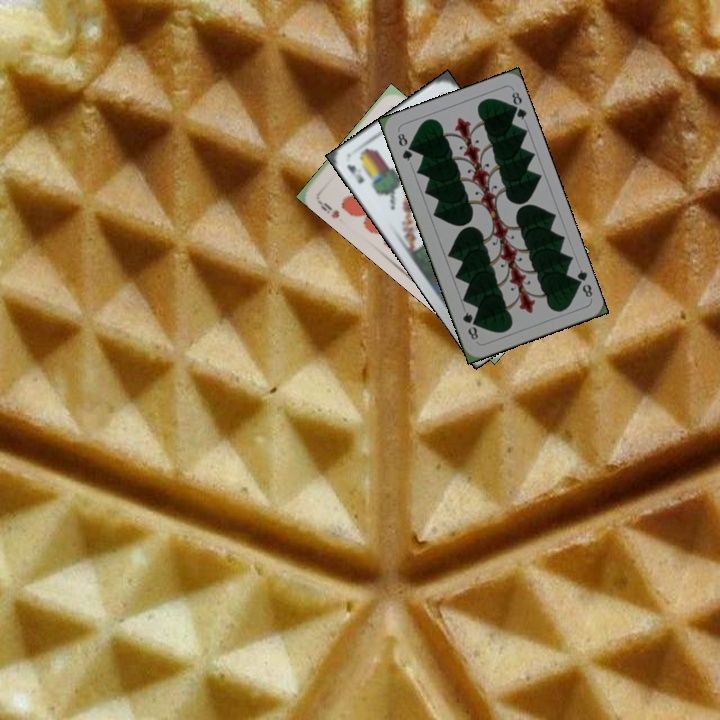EK: (343, 160, 367, 186)
G8: (569, 265, 595, 300), (393, 129, 415, 164)
H9: (313, 193, 342, 221)
